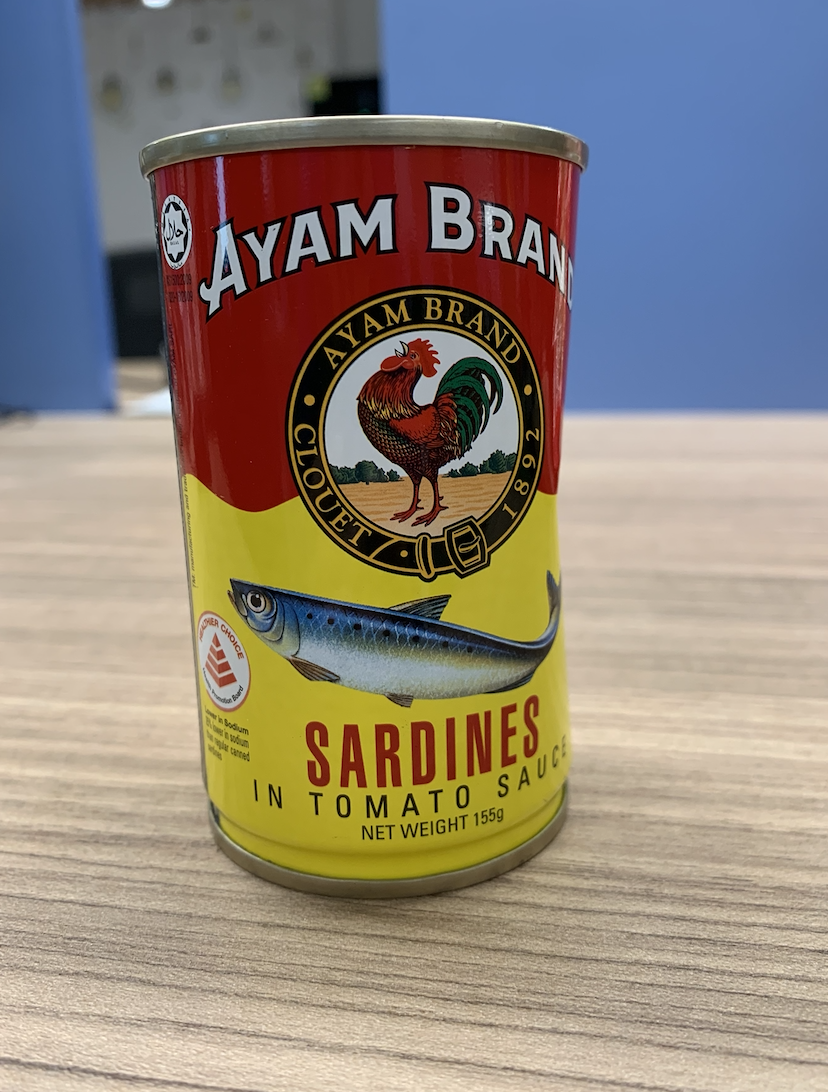sardines_100g-199g: (179, 174, 569, 855)
